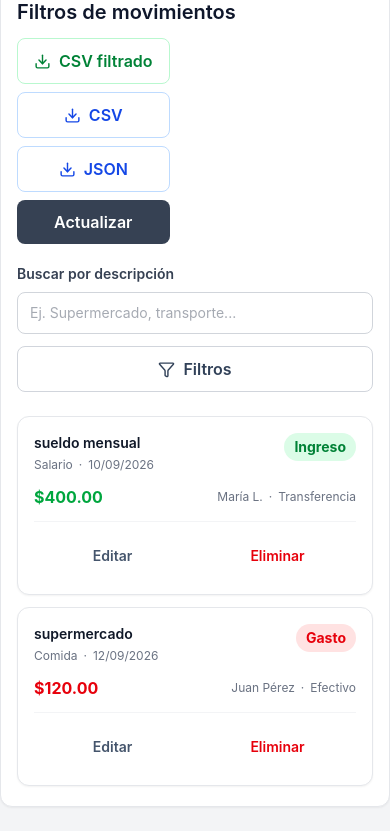
Test: Movimientos — vista de tarjetas (T12) › "Editar" desde la tarjeta carga el movimiento en el formulario
The image size is (390, 831).
(page scrolled)
Click the button "Editar" below "sueldo mensual" at (112, 556), box [34,534,191,578]
(page scrolled)
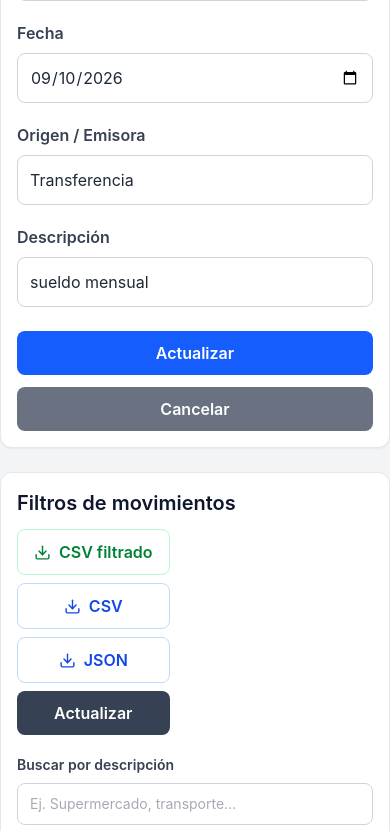
Expected: the field with id "descripcion" holds "sueldo mensual", [17,257,373,307]
Expected: the button "Cancelar" is shown, [17,387,373,431]
